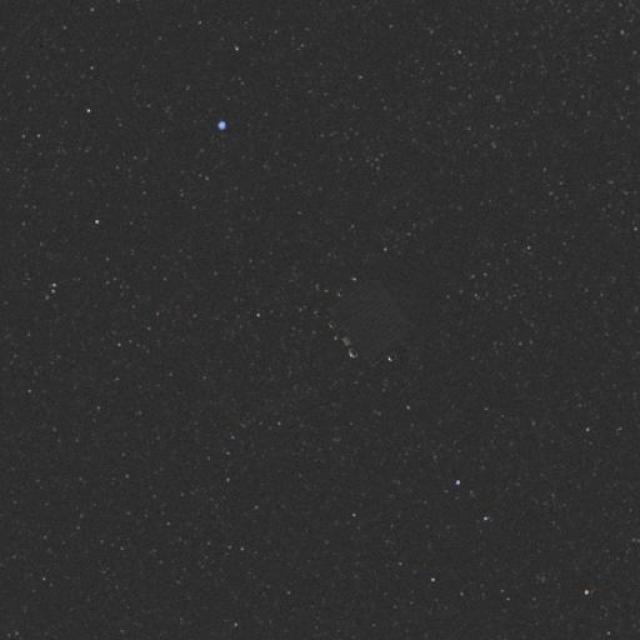proba_3_ocs: (301, 222, 465, 372)
